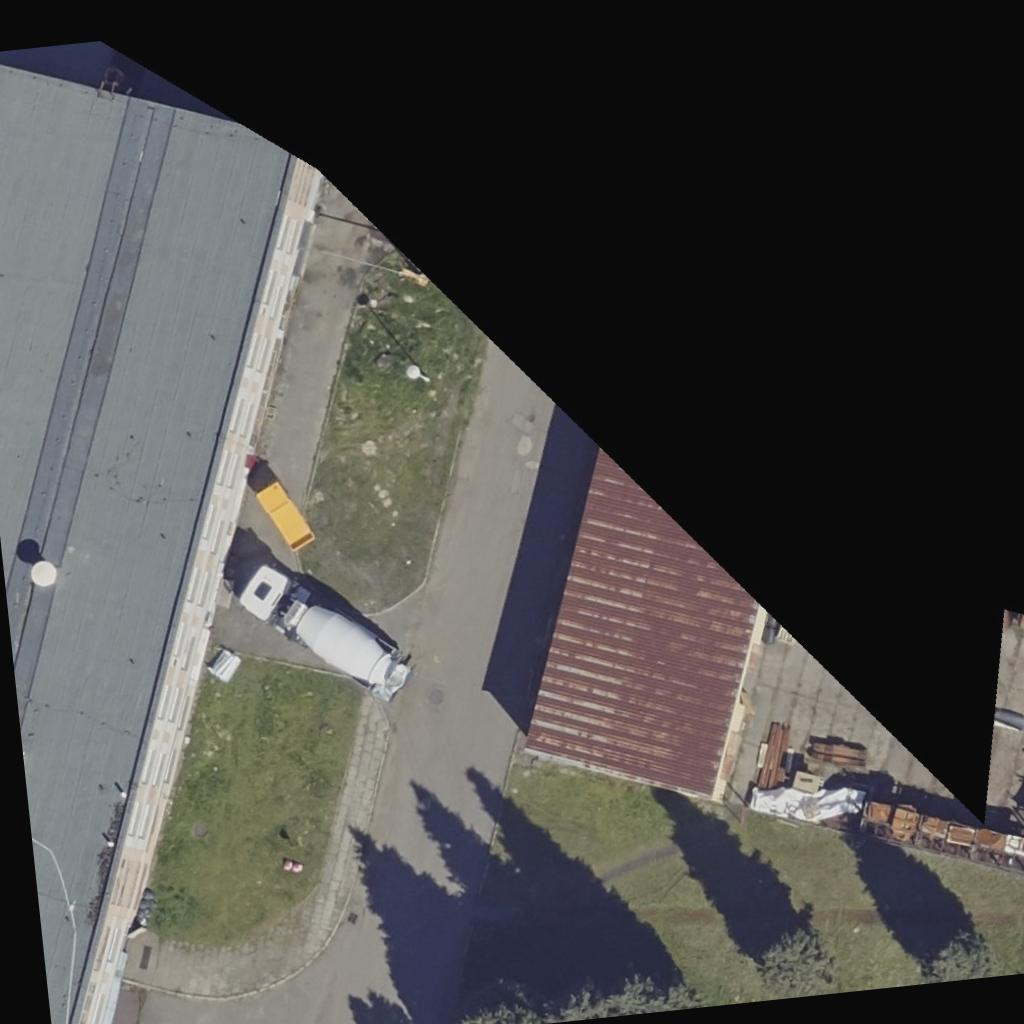betoniarka: (231, 550, 413, 716)
